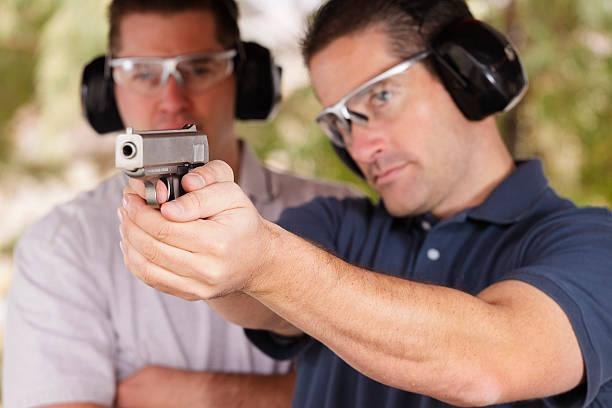weapon: (106, 121, 220, 212)
